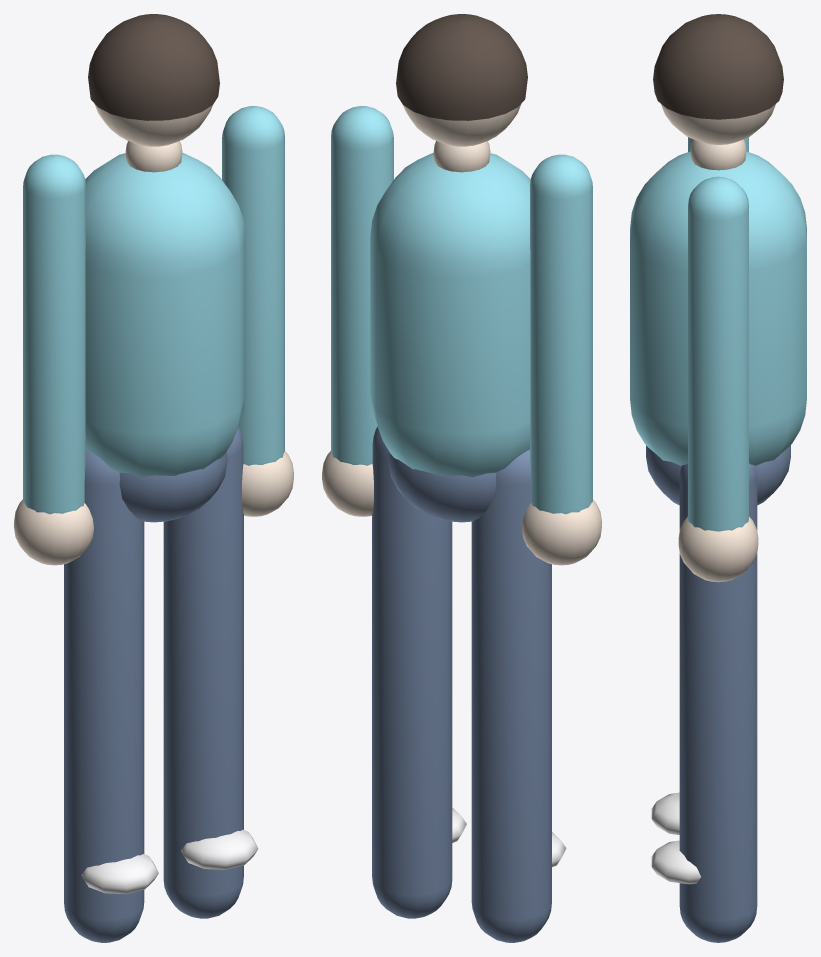
File: child_boy_8.glb
3 renders of one model, left to right at view 1: azimuth 30°, elevation 25°; view 2: azimuth 150°, elevation 25°; view 3: azimuth 270°, elevation 25°, orthographic.
Parts seen in each view (by area): view 1: torso, leg_l, leg_r, arm_l, arm_r, hair, hips, hand_l, hand_r, head, shoe_l, shoe_r (+1 smaller); view 2: torso, leg_l, leg_r, arm_l, arm_r, hair, hips, hand_l, hand_r, head, neck; view 3: torso, leg_r, arm_r, hair, hand_r, hips, head, shoe_r, neck, shoe_l.
Part boxes in pixels (bbox=[...]): torso: bbox=[85, 152, 245, 477]; leg_l: bbox=[64, 449, 144, 942]; leg_r: bbox=[163, 426, 243, 918]; arm_l: bbox=[23, 154, 85, 514]; arm_r: bbox=[222, 106, 284, 465]; hair: bbox=[88, 14, 219, 120]; hips: bbox=[119, 452, 227, 522]; hand_l: bbox=[14, 499, 93, 565]; hand_r: bbox=[242, 451, 293, 516]; head: bbox=[94, 104, 212, 146]; shoe_l: bbox=[81, 854, 158, 894]; shoe_r: bbox=[181, 829, 258, 869]; torso: bbox=[370, 152, 530, 477]; leg_l: bbox=[471, 449, 551, 942]; leg_r: bbox=[372, 426, 452, 918]; arm_l: bbox=[530, 154, 592, 514]; arm_r: bbox=[331, 106, 393, 465]; hair: bbox=[396, 14, 527, 120]; hips: bbox=[388, 452, 496, 522]; hand_l: bbox=[522, 499, 601, 565]; hand_r: bbox=[322, 451, 373, 516]; head: bbox=[403, 104, 521, 146]; neck: bbox=[433, 141, 490, 172]; torso: bbox=[630, 151, 806, 465]; leg_r: bbox=[679, 463, 757, 942]; arm_r: bbox=[688, 176, 748, 531]; hair: bbox=[653, 14, 783, 119]; hand_r: bbox=[678, 516, 758, 582]; hips: bbox=[646, 445, 790, 505]; head: bbox=[661, 104, 775, 144]; shoe_r: bbox=[651, 840, 700, 884]; neck: bbox=[690, 139, 746, 170]; shoe_l: bbox=[651, 792, 679, 834].
Bounding box in the file's own units: 0.4235 × 1.36 × 0.2433.
